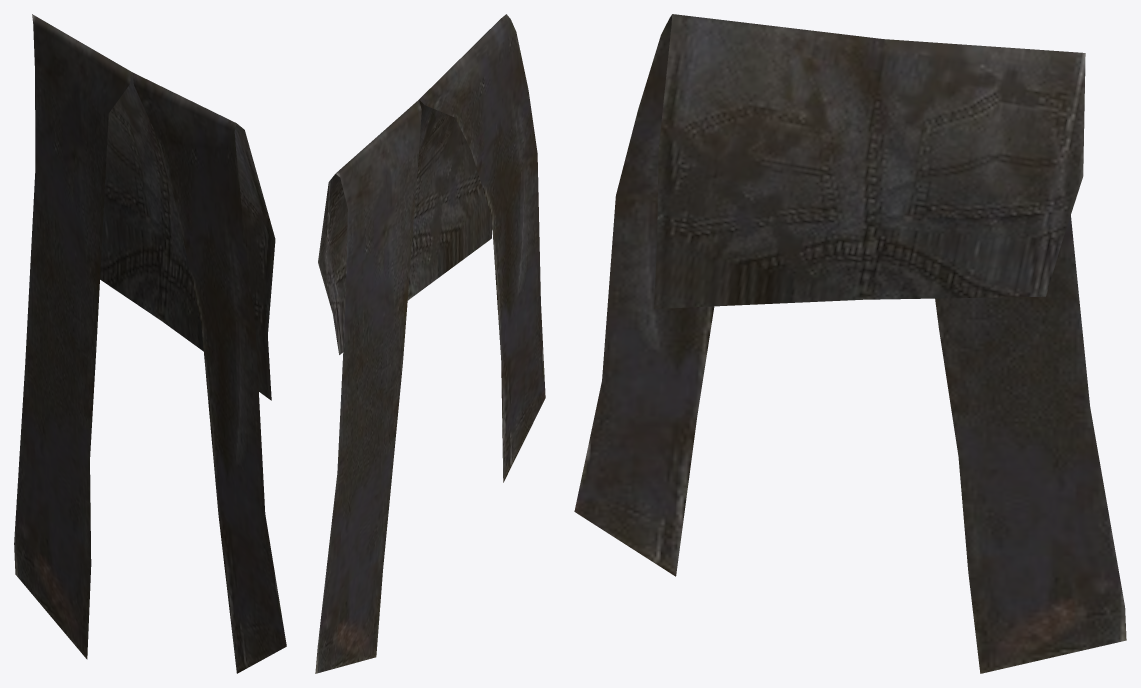
Rendered from Jeans_01.FBX.
3 renders of one model, left to right at view 1: azimuth 30°, elevation 25°; view 2: azimuth 150°, elevation 25°; view 3: azimuth 270°, elevation 25°, orthographic. The views are drawn at different scales.
Parts seen in each view (by area): view 1: Jeans_01; view 2: Jeans_01; view 3: Jeans_01.
Part boxes in pixels (x1=…): Jeans_01: x1=14, y1=14, x2=286, y2=673; Jeans_01: x1=315, y1=14, x2=545, y2=673; Jeans_01: x1=574, y1=14, x2=1126, y2=673.
Size of the model in its own units: 5.59 by 77.84 by 59.11.
